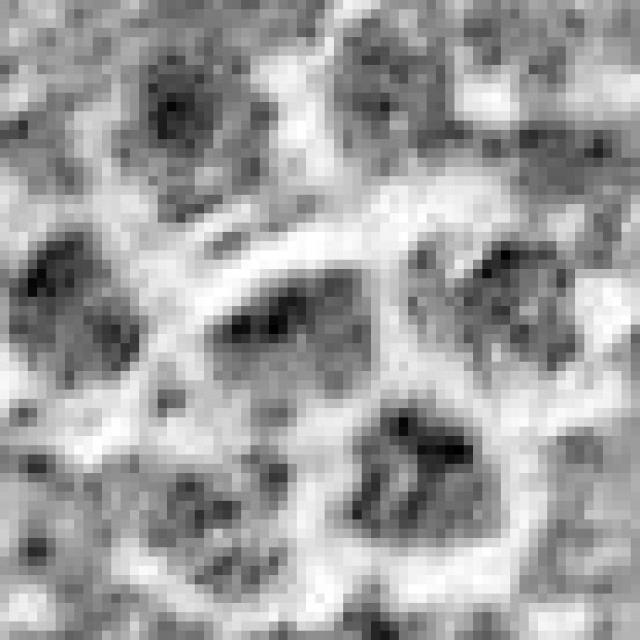inner: (206, 259, 386, 434)
lobe: (96, 446, 295, 603), (114, 38, 278, 224), (402, 225, 596, 374), (335, 387, 507, 546), (2, 221, 156, 391), (327, 10, 460, 177)
outer: (0, 0, 640, 631)
